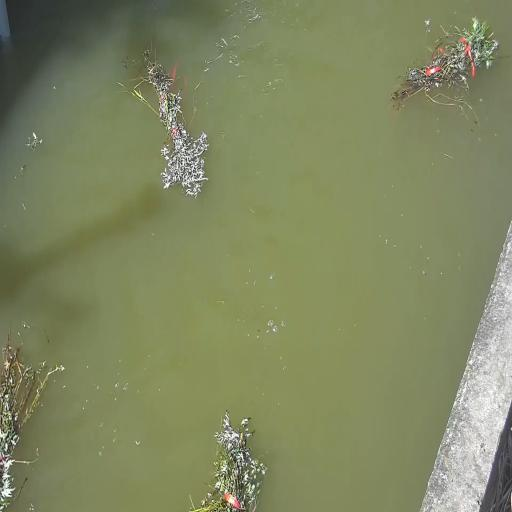twig: (122, 43, 210, 199), (0, 318, 64, 510), (390, 16, 501, 120), (186, 407, 268, 510)
